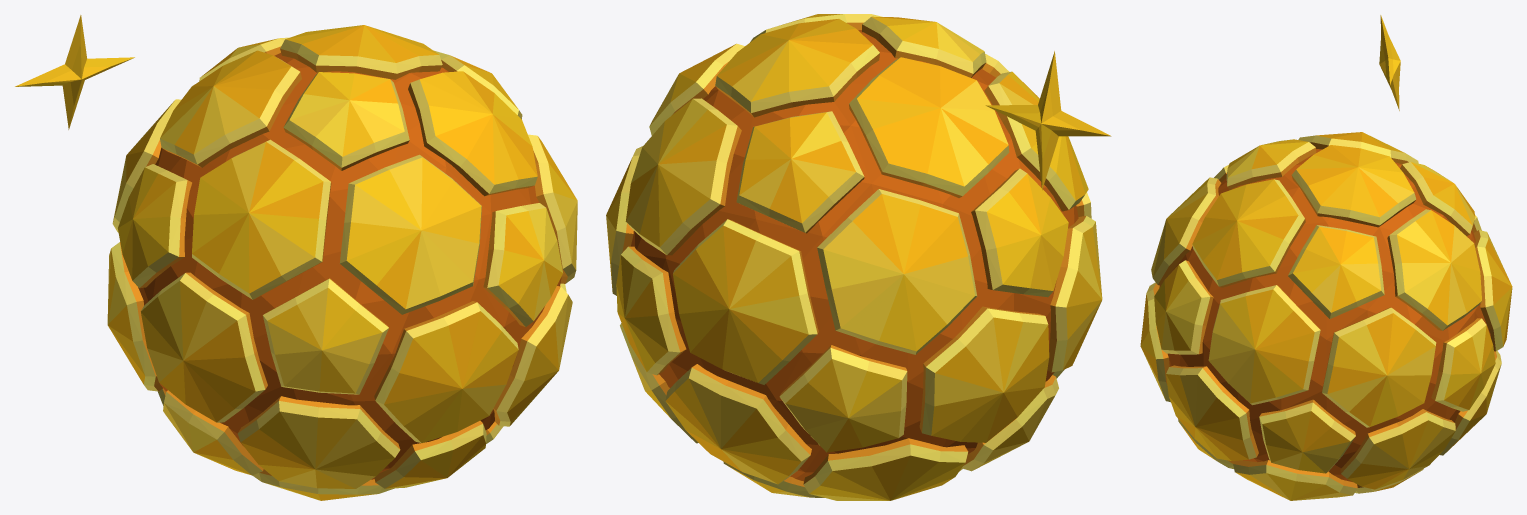
Rendered from Ball_07_Gold.glb.
3 views of the same model, side by side, from view 1: azimuth 30°, elevation 25°; view 2: azimuth 150°, elevation 25°; view 3: azimuth 270°, elevation 25° (orthographic). The views are drawn at different scales.
Parts seen in each view (by area): view 1: Ball_07_Gold.001; view 2: Ball_07_Gold.001; view 3: Ball_07_Gold.001.
Part boxes in pixels (box(x1,y1,x2,y2)): Ball_07_Gold.001: box(15, 15, 577, 500); Ball_07_Gold.001: box(606, 14, 1111, 500); Ball_07_Gold.001: box(1140, 15, 1512, 500).
Bounding box in the file's own units: 2.42 × 2.32 × 2.05.
Materials: 1 (1 with a texture image).
